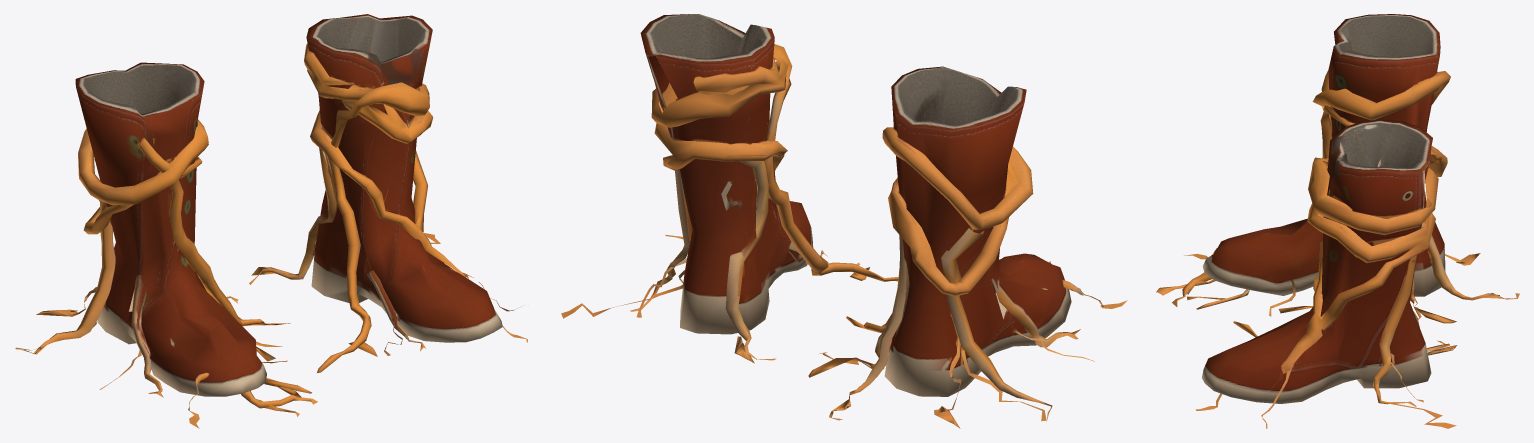
Rendered from root-boots_refine.glb.
The picture shows the model from 3 angles, left to right: view 1: azimuth 30°, elevation 25°; view 2: azimuth 150°, elevation 25°; view 3: azimuth 270°, elevation 25°; orthographic projection. The views are drawn at different scales.
Bounding box in the file's own units: 0.9565 × 0.5493 × 0.7388.
1 material, 1 textured.
